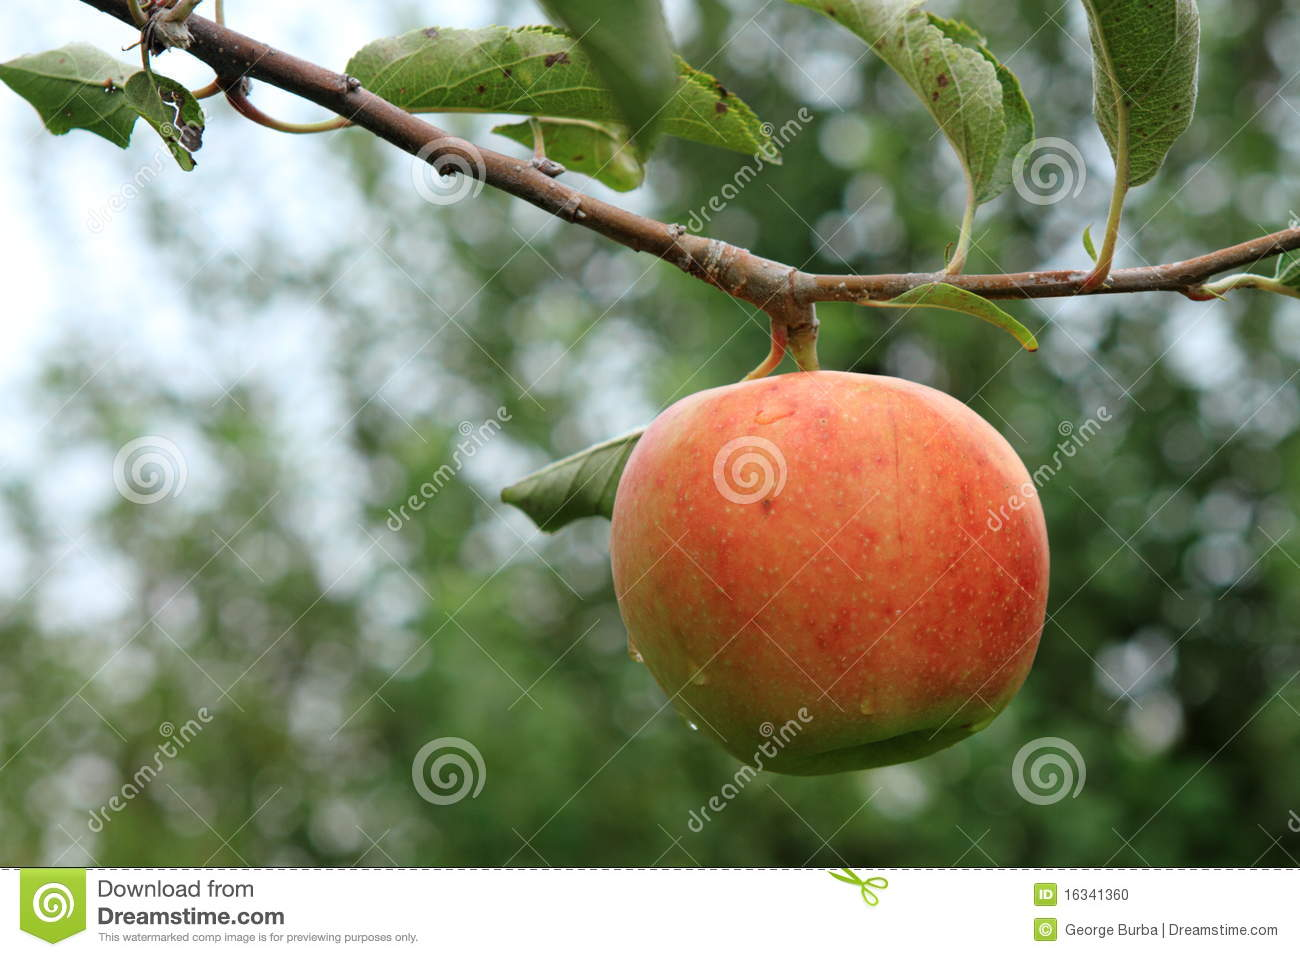apple: (612, 373, 1049, 778)
